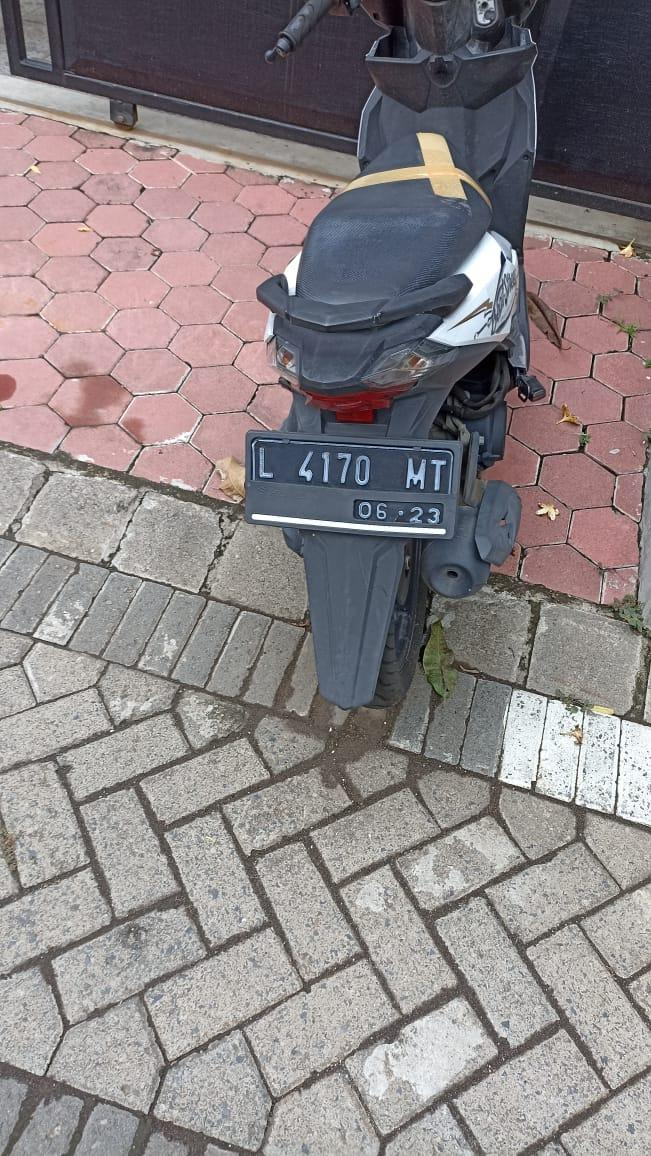plat: (244, 435, 456, 538)
